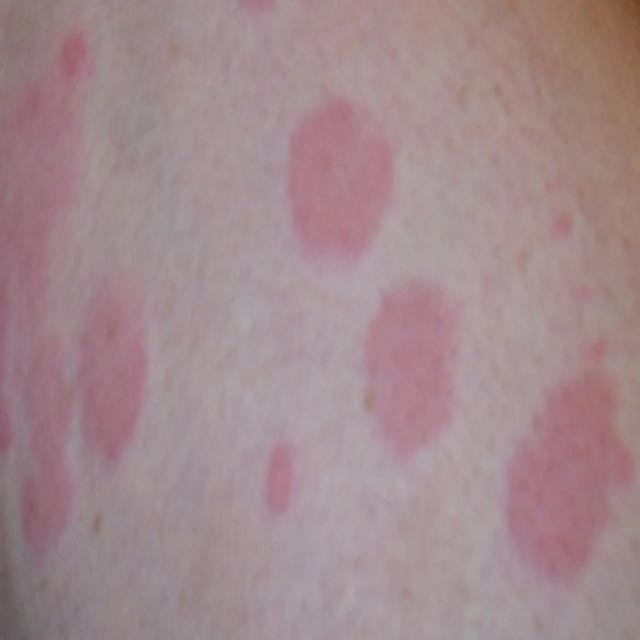hives: (8, 13, 628, 598)
